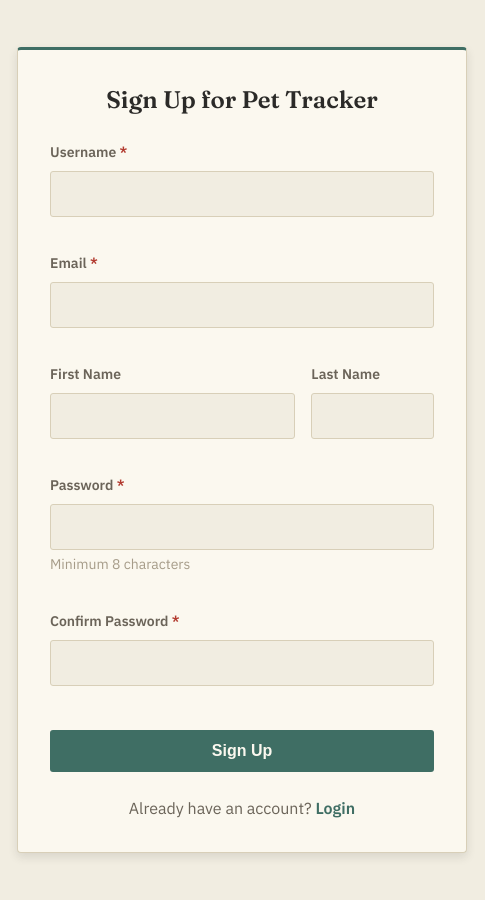
it: Signup Component › displays network error message
In the field labelled "Username *": (242,194) [50,171,434,217], type "newuser"
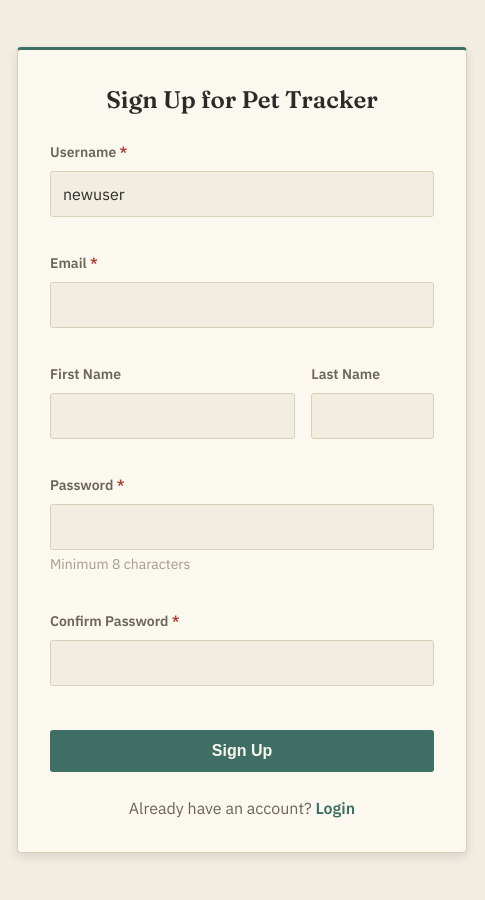
In the field labelled "Email *": (242,305) [50,282,434,328], type "new@example.com"
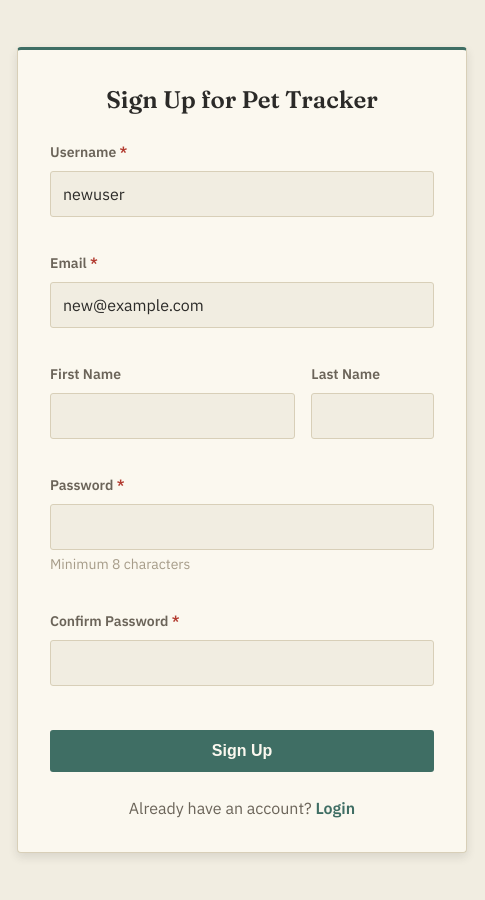
In the password field labelled "Password *": (242,527) [50,504,434,550], type "password123"
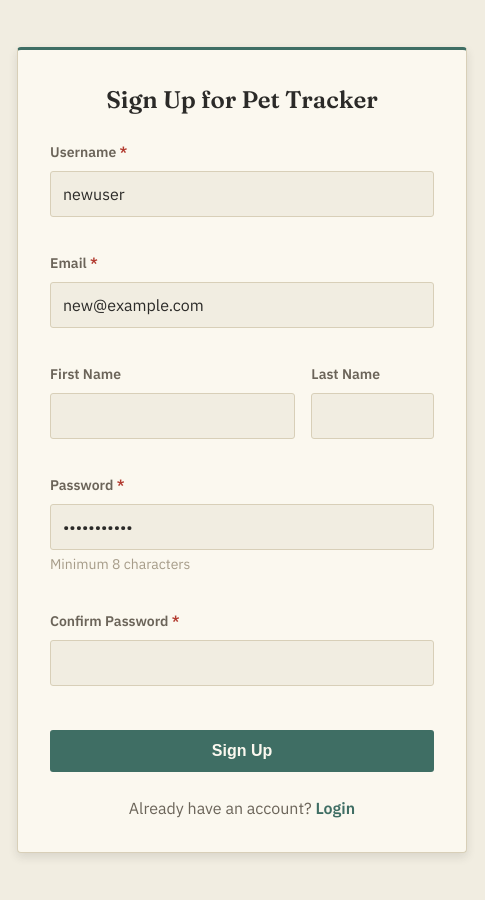
In the password field labelled "Confirm Password *": (242,663) [50,640,434,686], type "password123"
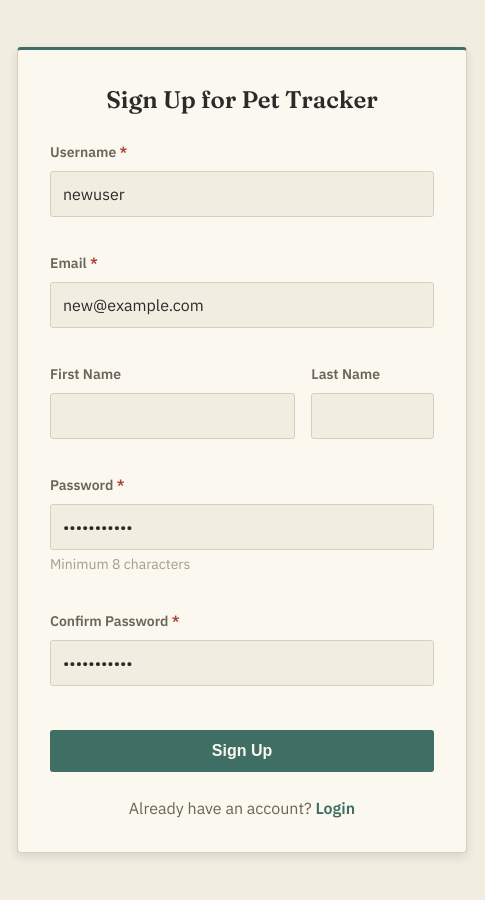
Click the button "Sign Up": (242,751) [50,730,434,772]
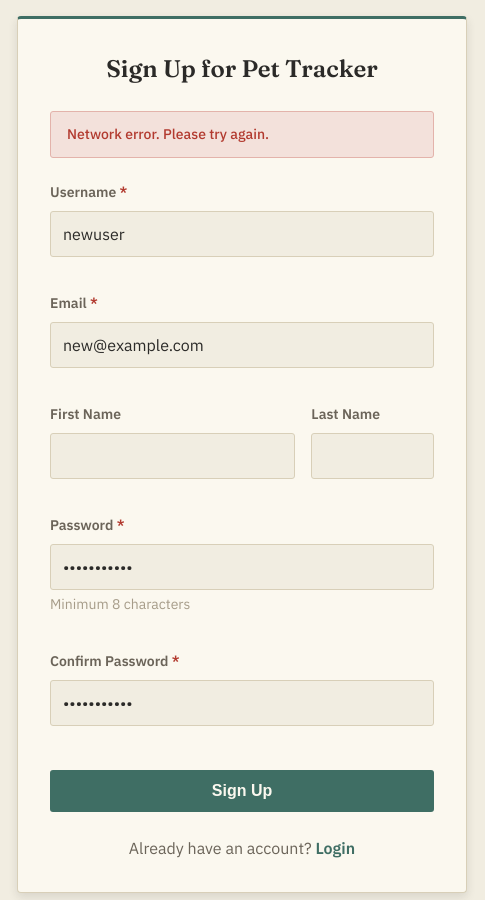
Now the text "Network error. Please try again." is shown, box [50,111,434,158]
